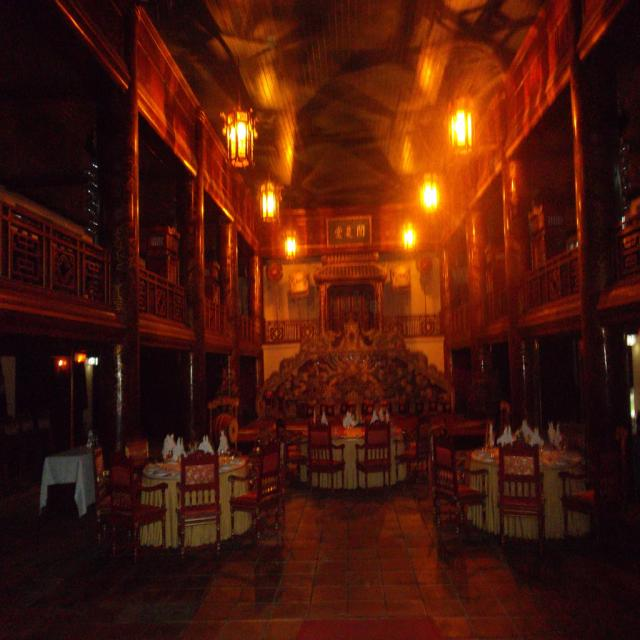no_fire: (121, 47, 602, 343)
